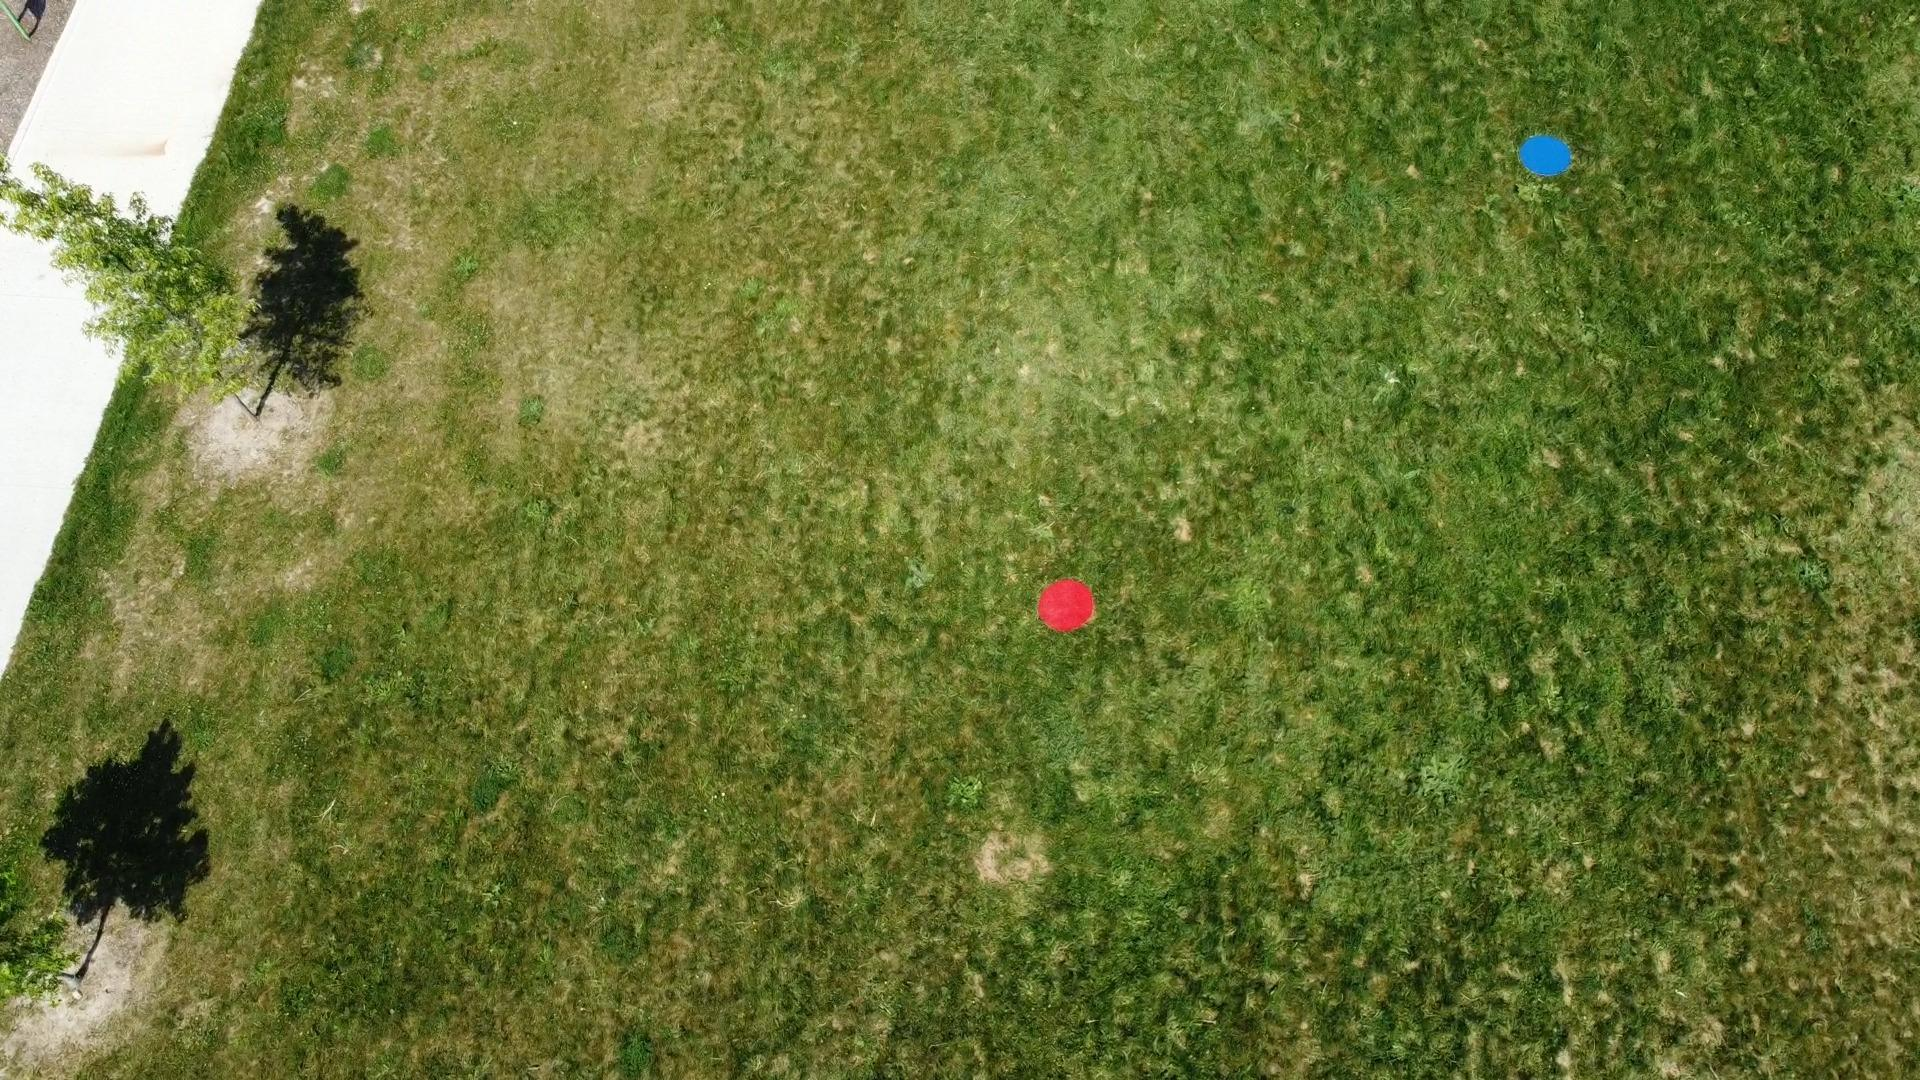Blue: (1515, 132, 1575, 177)
Red: (1036, 578, 1097, 634)
